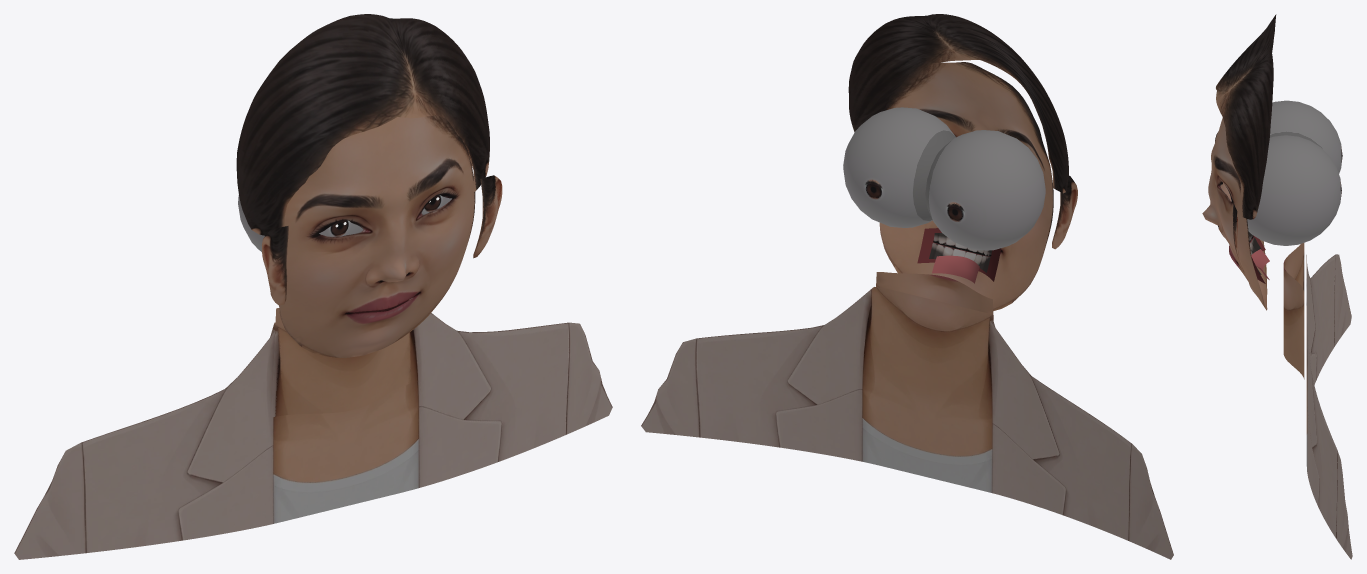
The model's file is tara.glb.
3 renders of one model, left to right at view 1: azimuth 30°, elevation 25°; view 2: azimuth 150°, elevation 25°; view 3: azimuth 270°, elevation 25°, orthographic. The views are drawn at different scales.
Visible parts, largest first — view 1: Body, Head, Hair, Neck, Ears, Eye_L; view 2: Body, Head, Eye_L, Hair, Eye_R, Neck, Ears, Tongue, Cavity; view 3: Body, Eye_R, Hair, Head, Neck, Eye_L, Tongue, Ears.
Part boxes in pixels (x1=…): Body: x1=14, y1=298, x2=612, y2=559; Head: x1=279, y1=115, x2=475, y2=357; Hair: x1=236, y1=14, x2=489, y2=235; Neck: x1=271, y1=308, x2=411, y2=417; Ears: x1=261, y1=175, x2=502, y2=305; Eye_L: x1=238, y1=195, x2=363, y2=251; Body: x1=641, y1=287, x2=1173, y2=559; Head: x1=879, y1=62, x2=1053, y2=310; Eye_L: x1=925, y1=130, x2=1045, y2=250; Hair: x1=848, y1=14, x2=1068, y2=193; Eye_R: x1=843, y1=107, x2=955, y2=227; Neck: x1=876, y1=272, x2=993, y2=320; Ears: x1=1052, y1=175, x2=1077, y2=249; Tongue: x1=932, y1=255, x2=979, y2=283; Cavity: x1=917, y1=228, x2=1001, y2=281; Body: x1=1306, y1=254, x2=1352, y2=559; Eye_R: x1=1231, y1=135, x2=1341, y2=245; Hair: x1=1216, y1=14, x2=1276, y2=219; Head: x1=1202, y1=117, x2=1267, y2=310; Neck: x1=1283, y1=243, x2=1304, y2=379; Eye_L: x1=1270, y1=100, x2=1342, y2=173; Tongue: x1=1251, y1=249, x2=1269, y2=279; Ears: x1=1232, y1=203, x2=1244, y2=272.
Bounding box in the file's own units: 2.43 × 1.97 × 0.6458.
Materials: 7 (4 with a texture image).
